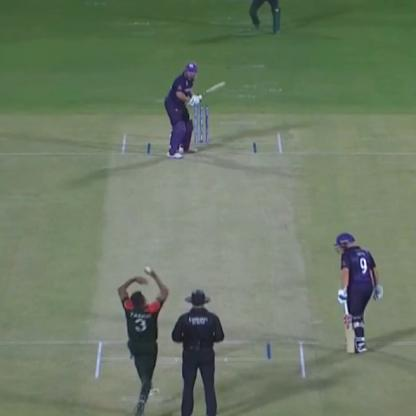ball: (139, 266, 156, 278)
bat: (193, 78, 228, 100)
pitch: (97, 122, 315, 384)
